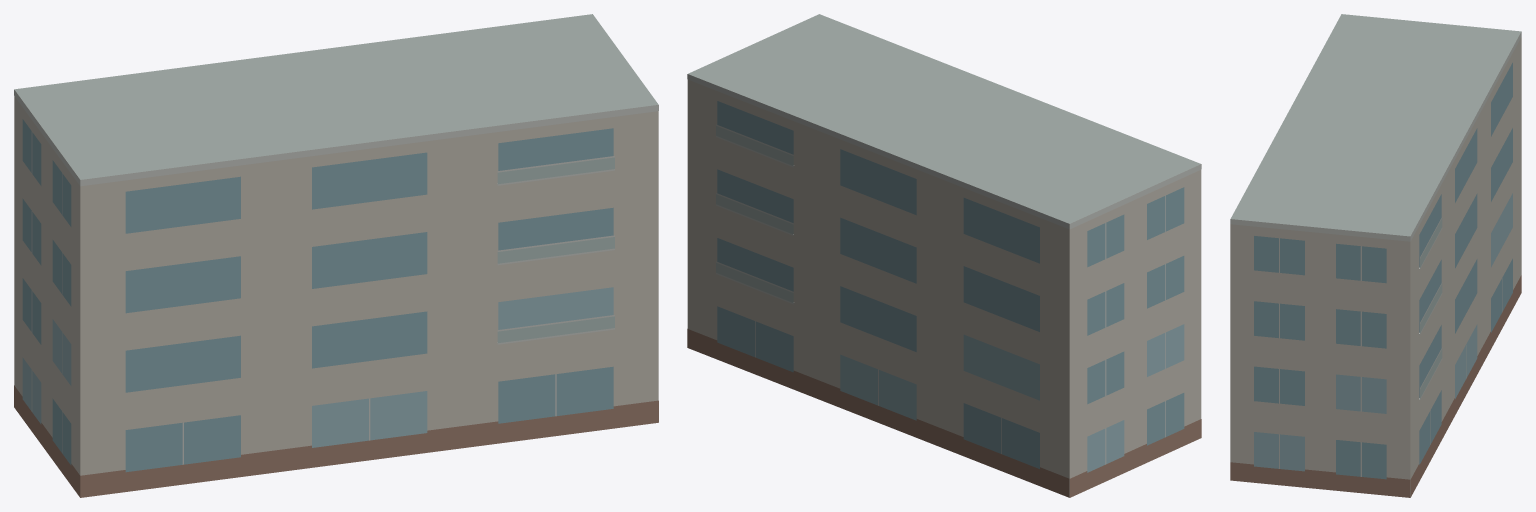
Rendered from residential-862355a3-65ff-4c52-8a50-e87d2934946a.glb.
The picture shows the model from 3 angles, left to right: view 1: azimuth 30°, elevation 25°; view 2: azimuth 150°, elevation 25°; view 3: azimuth 270°, elevation 25°; orthographic projection. The views are drawn at different scales.
Visible parts, largest first — view 1: residential-862355a3-65ff-4c52-8a50-e87d2934946a.tmp; view 2: residential-862355a3-65ff-4c52-8a50-e87d2934946a.tmp; view 3: residential-862355a3-65ff-4c52-8a50-e87d2934946a.tmp.
Part boxes in pixels (x1=…): residential-862355a3-65ff-4c52-8a50-e87d2934946a.tmp: x1=14, y1=14, x2=658, y2=497; residential-862355a3-65ff-4c52-8a50-e87d2934946a.tmp: x1=687, y1=14, x2=1201, y2=497; residential-862355a3-65ff-4c52-8a50-e87d2934946a.tmp: x1=1230, y1=14, x2=1521, y2=497.
Bounding box in the file's own units: 22.27 × 12.2 × 12.32.
